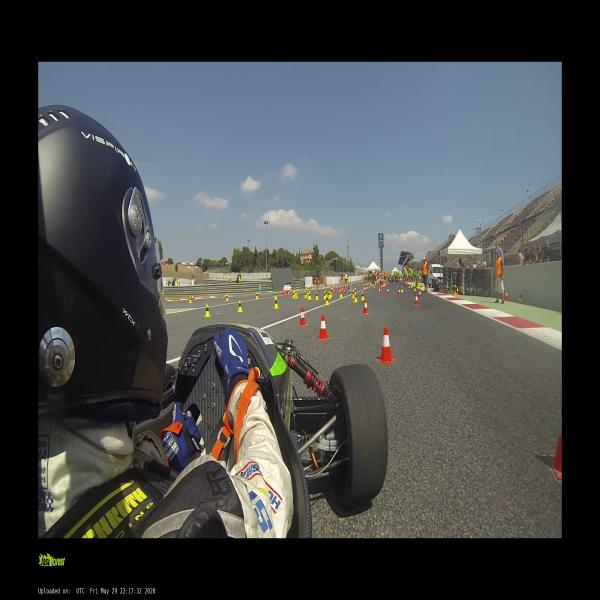orange_cone: (548, 401, 562, 478), (376, 326, 395, 364), (317, 314, 329, 340), (298, 307, 307, 326), (362, 300, 369, 314), (414, 294, 418, 306), (504, 291, 509, 300), (418, 290, 422, 298), (455, 286, 459, 294), (386, 288, 390, 294), (378, 288, 381, 294), (257, 290, 260, 296), (398, 288, 400, 296), (191, 295, 193, 301), (363, 286, 365, 292), (225, 293, 227, 299), (354, 287, 356, 293), (165, 297, 167, 302), (373, 285, 375, 290), (366, 286, 368, 291)
unknown_cone: (258, 284, 262, 293)
yellow_cone: (204, 304, 211, 317), (237, 300, 243, 312), (352, 292, 358, 302), (274, 297, 279, 308), (518, 292, 523, 302), (315, 291, 319, 300), (325, 296, 329, 305), (360, 292, 364, 300), (351, 290, 355, 298), (273, 292, 277, 300), (323, 292, 327, 299), (327, 291, 331, 298), (188, 296, 192, 302), (294, 293, 298, 299), (308, 292, 311, 299), (226, 294, 229, 301), (255, 291, 258, 298), (292, 291, 295, 298), (400, 286, 403, 292), (296, 286, 299, 291), (304, 291, 306, 298), (340, 291, 342, 297), (414, 285, 416, 290)
